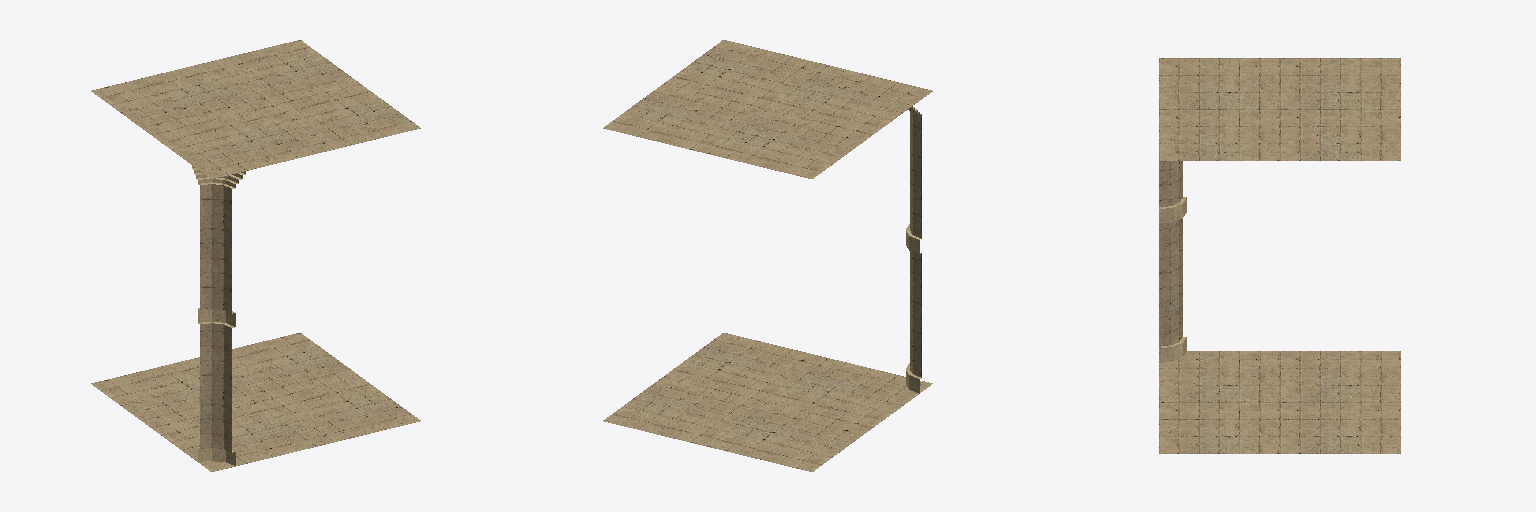
3 views of the same model, side by side, from view 1: azimuth 30°, elevation 25°; view 2: azimuth 150°, elevation 25°; view 3: azimuth 270°, elevation 25° (orthographic).
Visible parts, largest first — view 1: Object22, Object14, Cylinder20, Object30; view 2: Object22, Object14, Cylinder20, Object30; view 3: Object22, Object14, Cylinder20, Object30.
Boxes of the visible parts, <box> form: Object22: <box>91,40,420,178</box>; Object14: <box>91,333,420,471</box>; Cylinder20: <box>200,184,231,451</box>; Object30: <box>192,166,245,470</box>; Object22: <box>603,40,932,178</box>; Object14: <box>603,333,932,471</box>; Cylinder20: <box>910,112,921,377</box>; Object30: <box>906,106,931,393</box>; Object22: <box>1159,58,1400,160</box>; Object14: <box>1159,351,1400,453</box>; Cylinder20: <box>1159,161,1182,346</box>; Object30: <box>1159,197,1186,362</box>.
Size of the model in its own units: 3 by 4 by 3.
Materials: 2 (2 with a texture image).